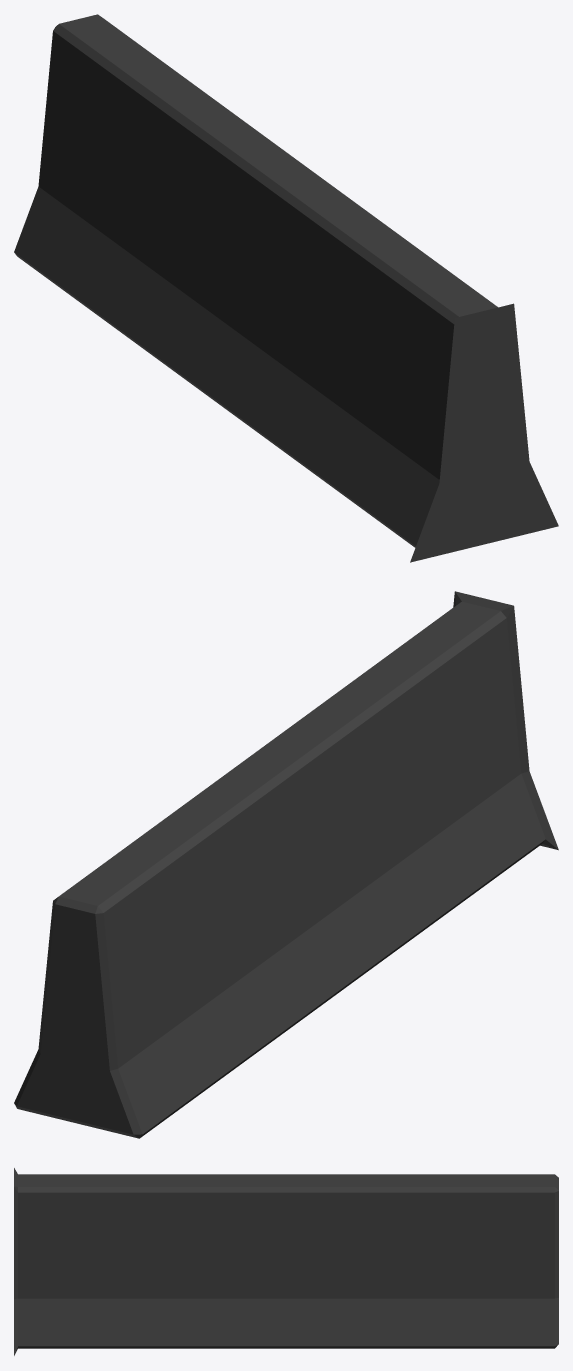
Rendered from Jersey.fbx.
The picture shows the model from 3 angles, top to bottom: view 1: azimuth 30°, elevation 25°; view 2: azimuth 150°, elevation 25°; view 3: azimuth 270°, elevation 25°; orthographic projection. The views are drawn at different scales.
Visible parts, largest first — view 1: Barrera Jersey; view 2: Barrera Jersey; view 3: Barrera Jersey.
Boxes of the visible parts, bbox=[...] form: Barrera Jersey: bbox=[14, 14, 558, 562]; Barrera Jersey: bbox=[14, 591, 558, 1138]; Barrera Jersey: bbox=[14, 1168, 558, 1355].
Bounding box in the file's own units: 84.1 × 126 × 400.
1 material, 1 textured.
